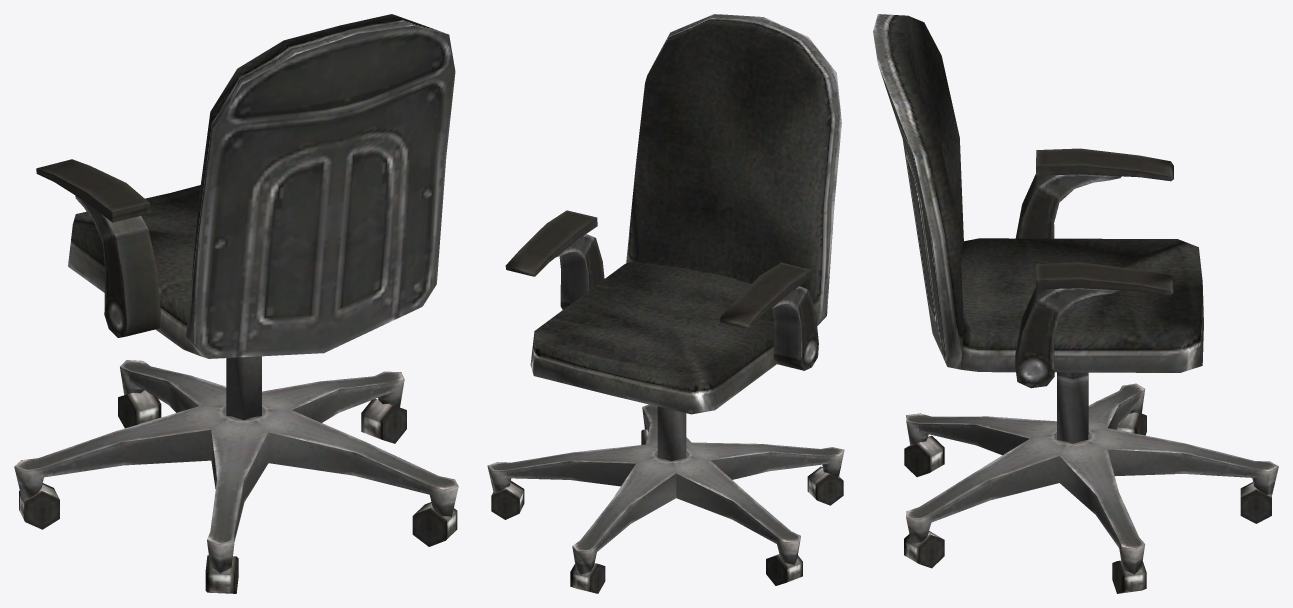
File: Prop_XinsjxDj034.glb
3 views of the same model, side by side, from view 1: azimuth 30°, elevation 25°; view 2: azimuth 150°, elevation 25°; view 3: azimuth 270°, elevation 25° (orthographic). The views are drawn at different scales.
Parts seen in each view (by area): view 1: xinsjx_dj034; view 2: xinsjx_dj034; view 3: xinsjx_dj034.
Boxes of the visible parts, x1=… form: xinsjx_dj034: x1=14, y1=14, x2=458, y2=593; xinsjx_dj034: x1=487, y1=14, x2=844, y2=593; xinsjx_dj034: x1=873, y1=14, x2=1278, y2=593.
Bounding box in the file's own units: 1.01 × 1.38 × 1.04.
Materials: 1 (1 with a texture image).
